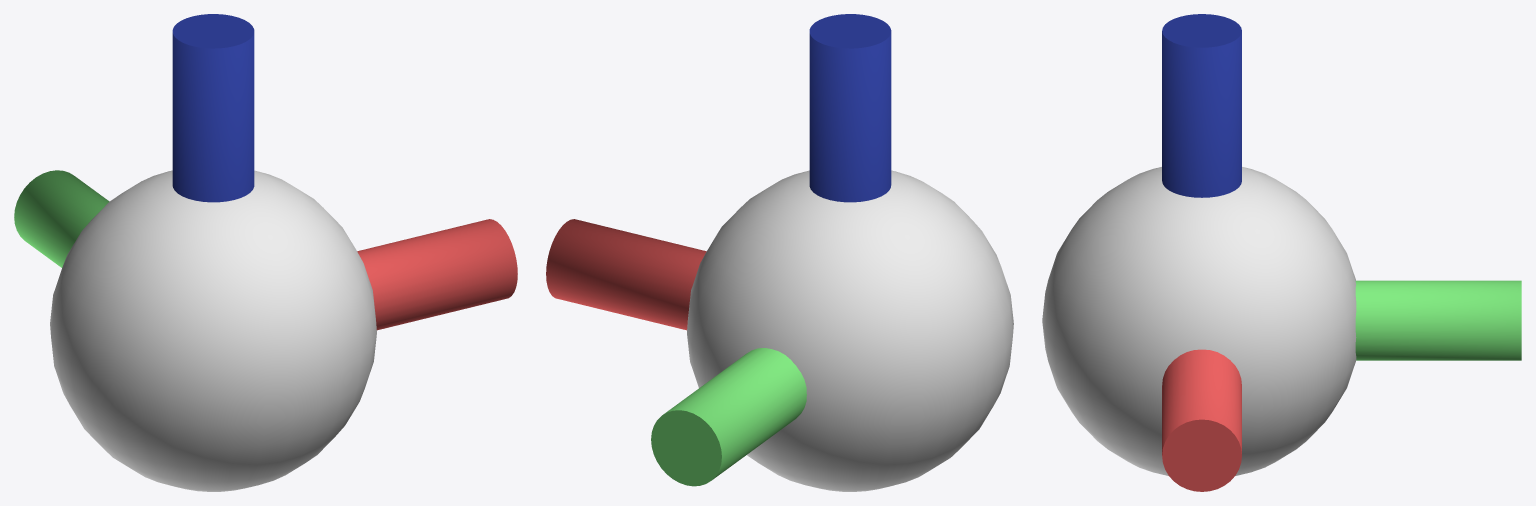
File: attachmentPoint.dae
3 renders of one model, left to right at view 1: azimuth 30°, elevation 25°; view 2: azimuth 150°, elevation 25°; view 3: azimuth 270°, elevation 25°, orthographic. The views are drawn at different scales.
Visible parts, largest first — view 1: Cylinder_002; view 2: Cylinder_002; view 3: Cylinder_002.
Part boxes in pixels (x1,y1,x2,y2): Cylinder_002: (14, 14, 517, 491); Cylinder_002: (546, 14, 1013, 491); Cylinder_002: (1042, 14, 1521, 491).
Size of the model in its own units: 3 by 3 by 3.
